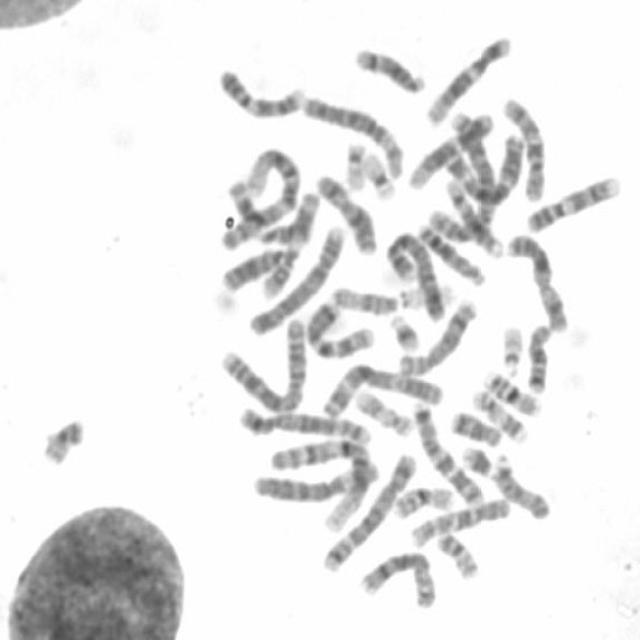A1: (261, 434, 376, 531), (215, 143, 305, 252)
A2: (426, 103, 497, 244), (215, 310, 309, 414)
A3: (316, 355, 448, 421), (438, 125, 526, 206)
B4: (241, 215, 348, 337), (379, 221, 448, 324)
B5: (316, 444, 419, 573), (232, 399, 374, 445)
C10: (404, 489, 511, 549), (496, 88, 548, 202)
C11: (255, 180, 322, 302), (222, 172, 316, 247)
C12: (418, 26, 514, 126), (402, 104, 496, 190)
C6: (296, 86, 408, 180), (245, 451, 383, 505)
C7: (407, 393, 487, 508), (299, 292, 377, 359)
C8: (390, 292, 479, 378), (352, 542, 438, 610)
C9: (520, 166, 623, 234), (210, 58, 309, 120)
D13: (409, 215, 488, 287), (215, 239, 293, 294)
D14: (438, 171, 504, 258), (347, 37, 427, 95)
D15: (488, 446, 554, 521), (324, 277, 410, 315)
E16: (476, 362, 544, 418), (386, 477, 455, 520)
E17: (466, 380, 530, 444), (349, 380, 416, 438)
E18: (519, 314, 554, 394), (444, 402, 504, 448)
F19: (356, 142, 399, 201), (398, 287, 459, 311)
F20: (34, 408, 87, 467), (430, 522, 482, 580)
G21: (383, 303, 423, 353), (454, 436, 496, 479)
G22: (494, 315, 526, 376), (337, 132, 369, 192)
X: (500, 224, 572, 334), (309, 164, 380, 256)
